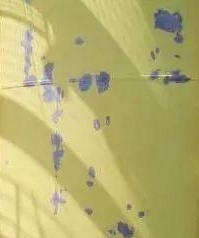Spalling: (40, 60, 66, 125), (19, 24, 38, 89), (153, 8, 187, 44), (78, 70, 111, 95), (49, 129, 66, 173), (49, 187, 70, 216), (162, 68, 192, 86), (116, 219, 136, 238), (71, 36, 86, 48), (149, 68, 161, 81), (150, 46, 160, 60), (88, 165, 96, 179), (92, 118, 100, 131), (106, 228, 116, 238), (136, 209, 145, 219), (104, 114, 111, 126), (83, 207, 93, 215), (85, 180, 94, 187), (126, 202, 132, 212), (173, 54, 181, 59)
